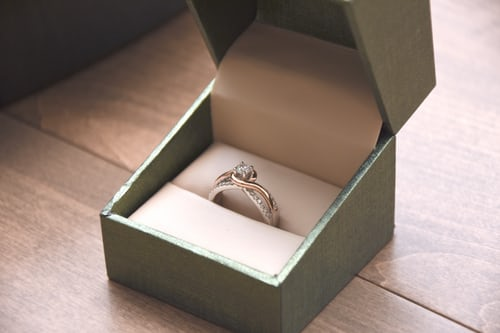ring: (200, 153, 289, 231)
